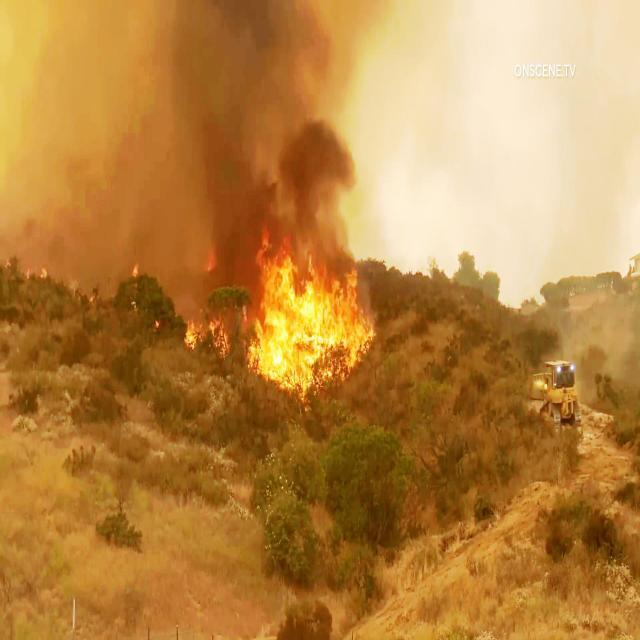Fire: (245, 236, 375, 416), (179, 312, 237, 365), (126, 262, 144, 316), (26, 264, 46, 284), (152, 314, 160, 334), (5, 256, 12, 270), (88, 294, 95, 302)
Smoke: (0, 0, 365, 244)
